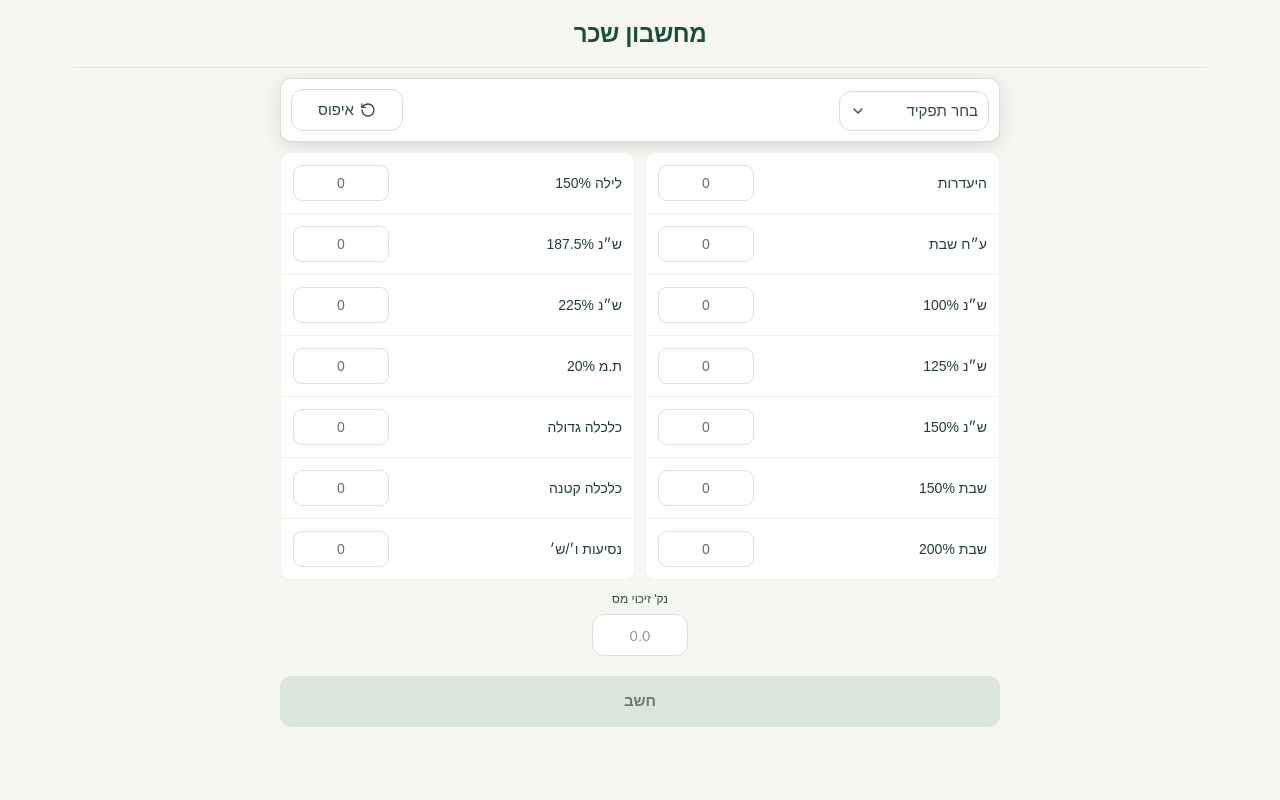
Test: continues to calculate without storage
This screenshot has width=1280, height=800.
Click the button labelled "בחר תפקיד".
click(914, 111)  # box [839, 91, 989, 131]
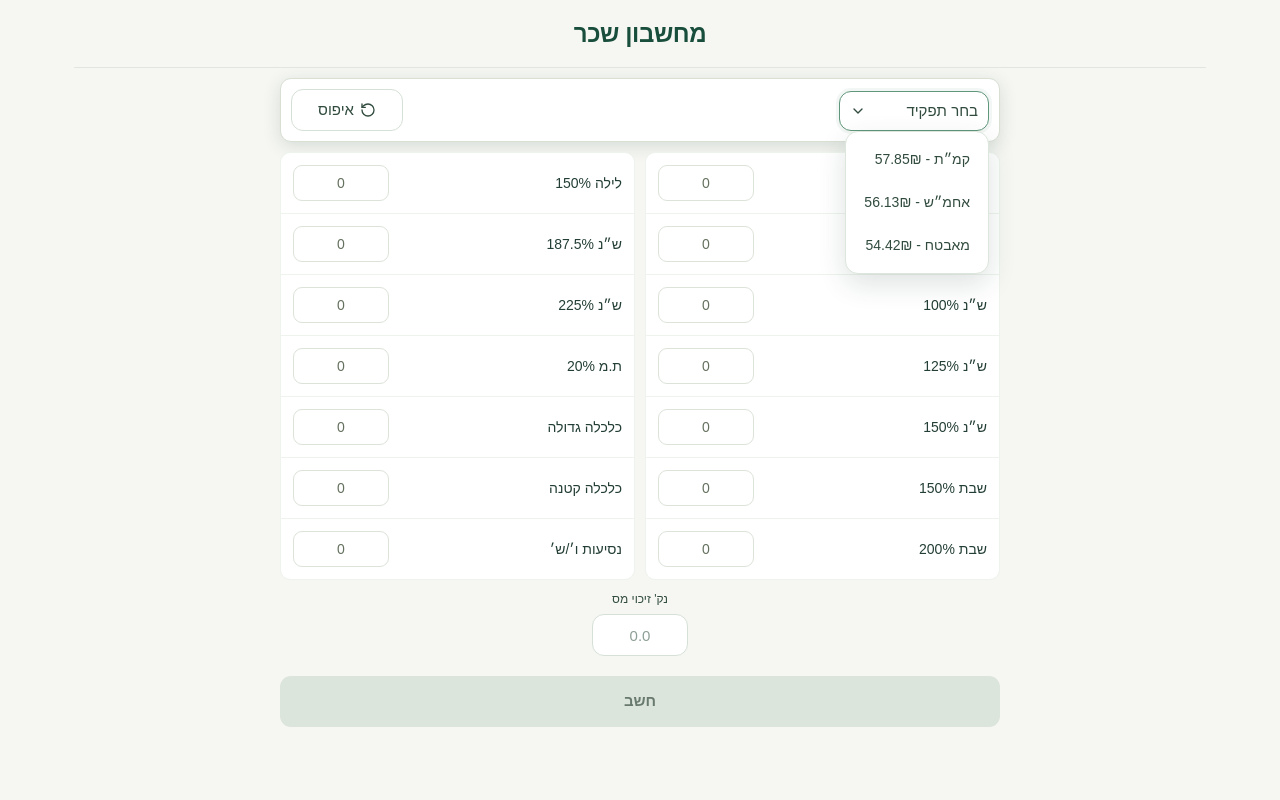
Click the button "קמ״ת - 57.85₪".
click(917, 160)  # box [852, 138, 982, 181]
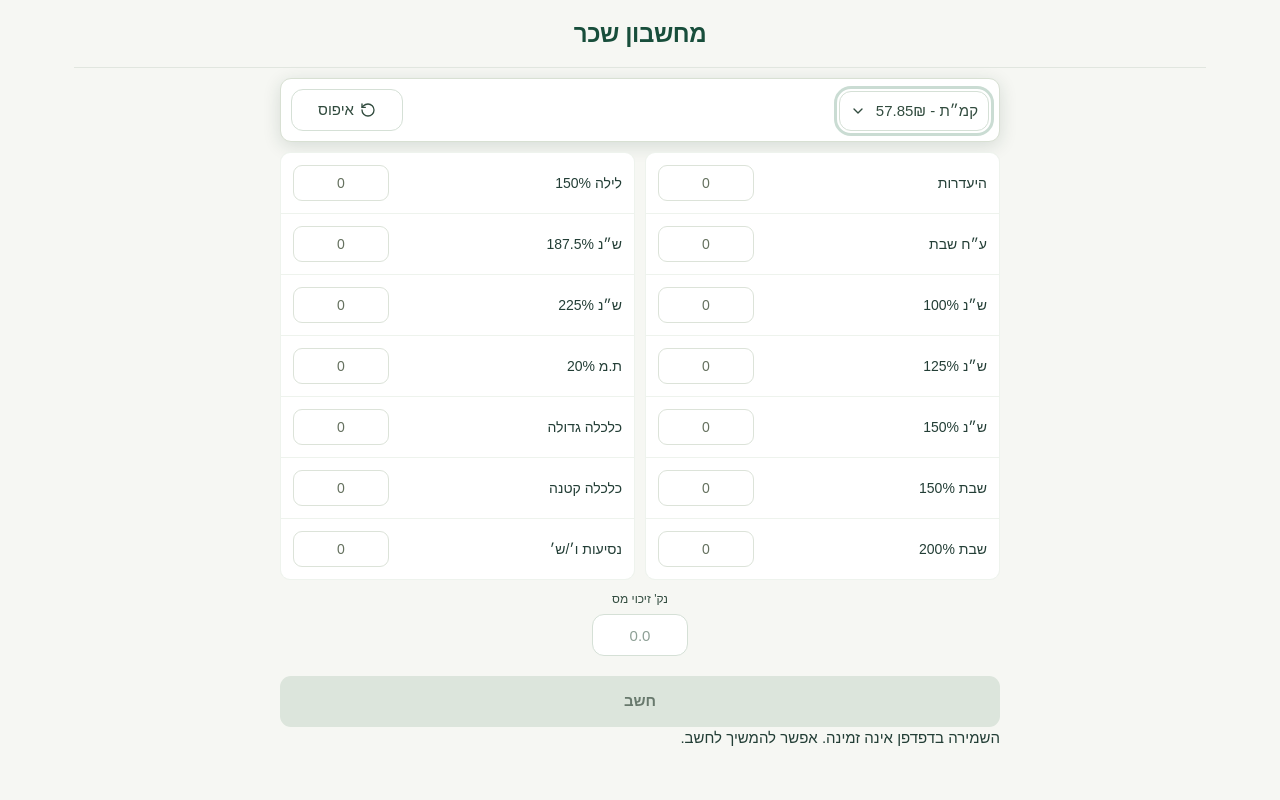
Type "150" into the field named "שעות רגילות".
click(706, 305); type("150")  # box [658, 287, 754, 323]
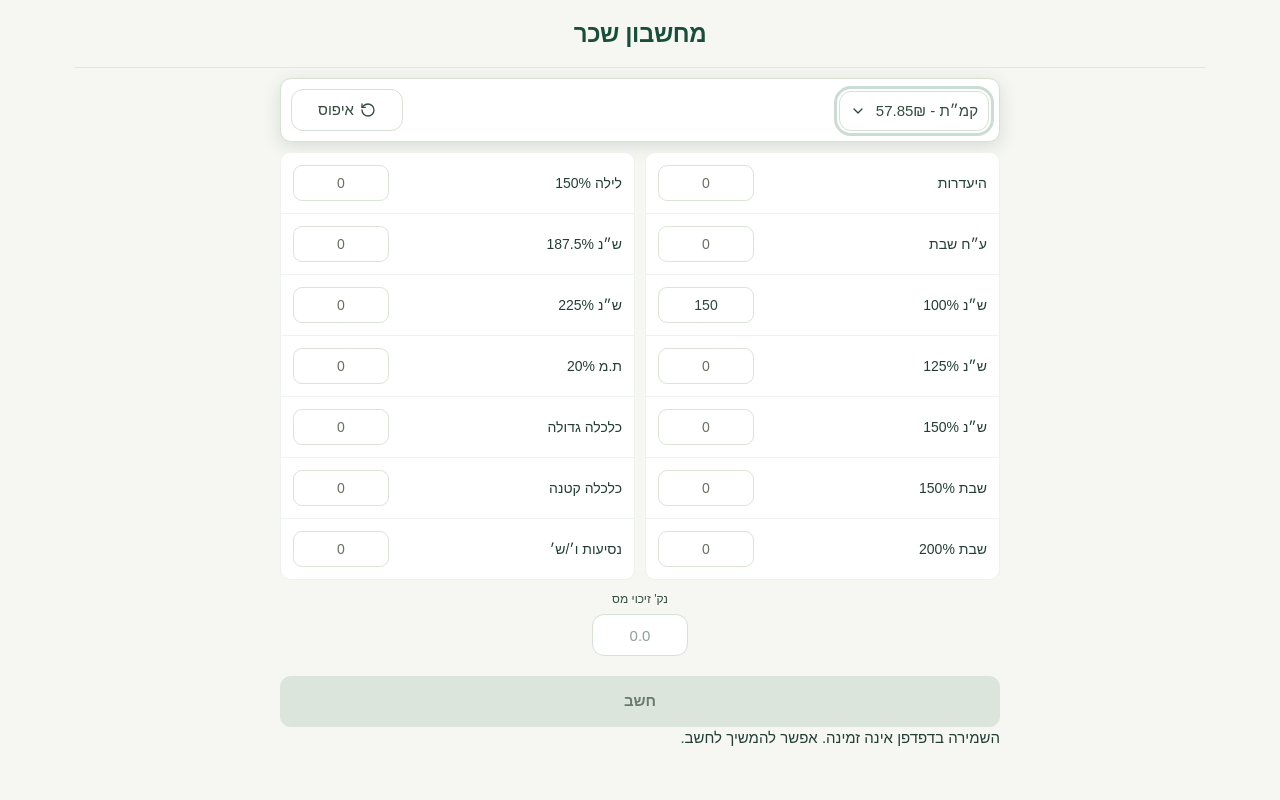
Type "2.25" into the field labelled "נק' זיכוי מס".
click(640, 635); type("2.25")  # box [592, 614, 688, 656]
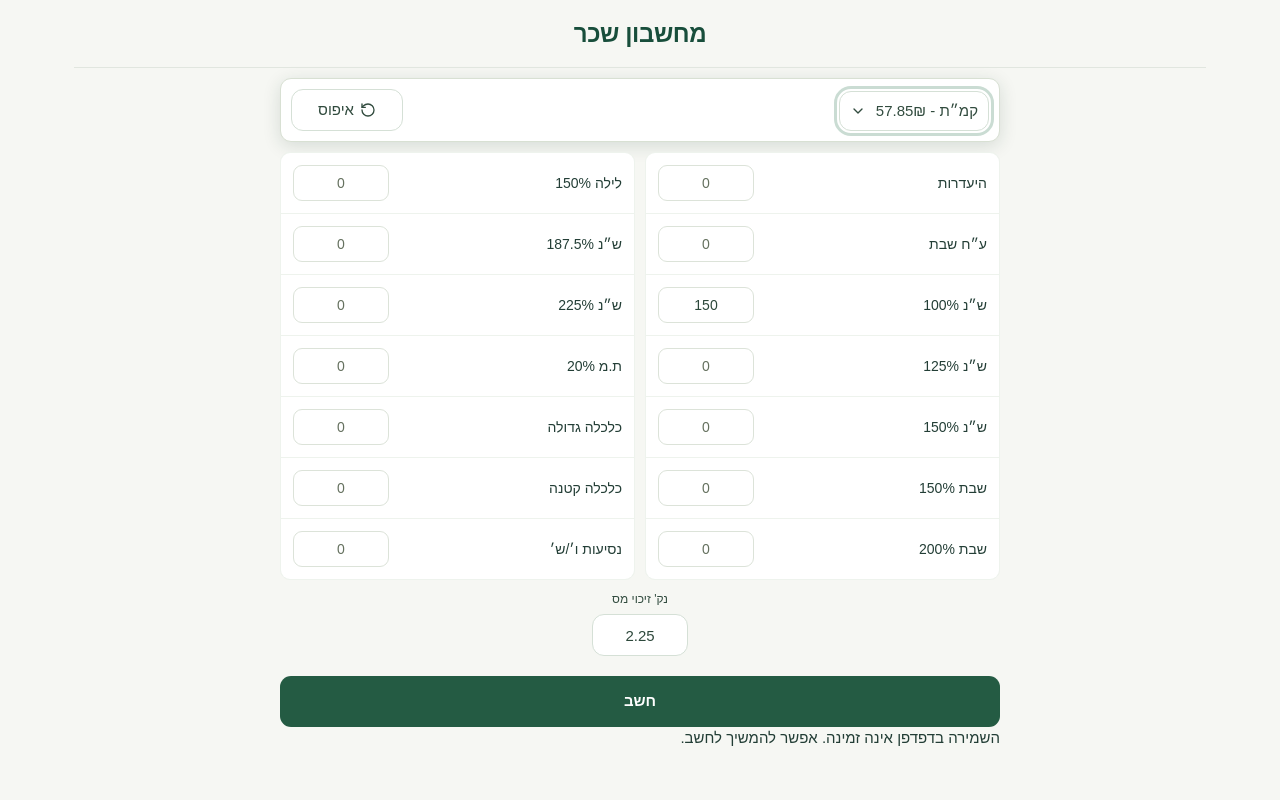
Click the button "חשב".
click(640, 701)  # box [280, 676, 1000, 726]
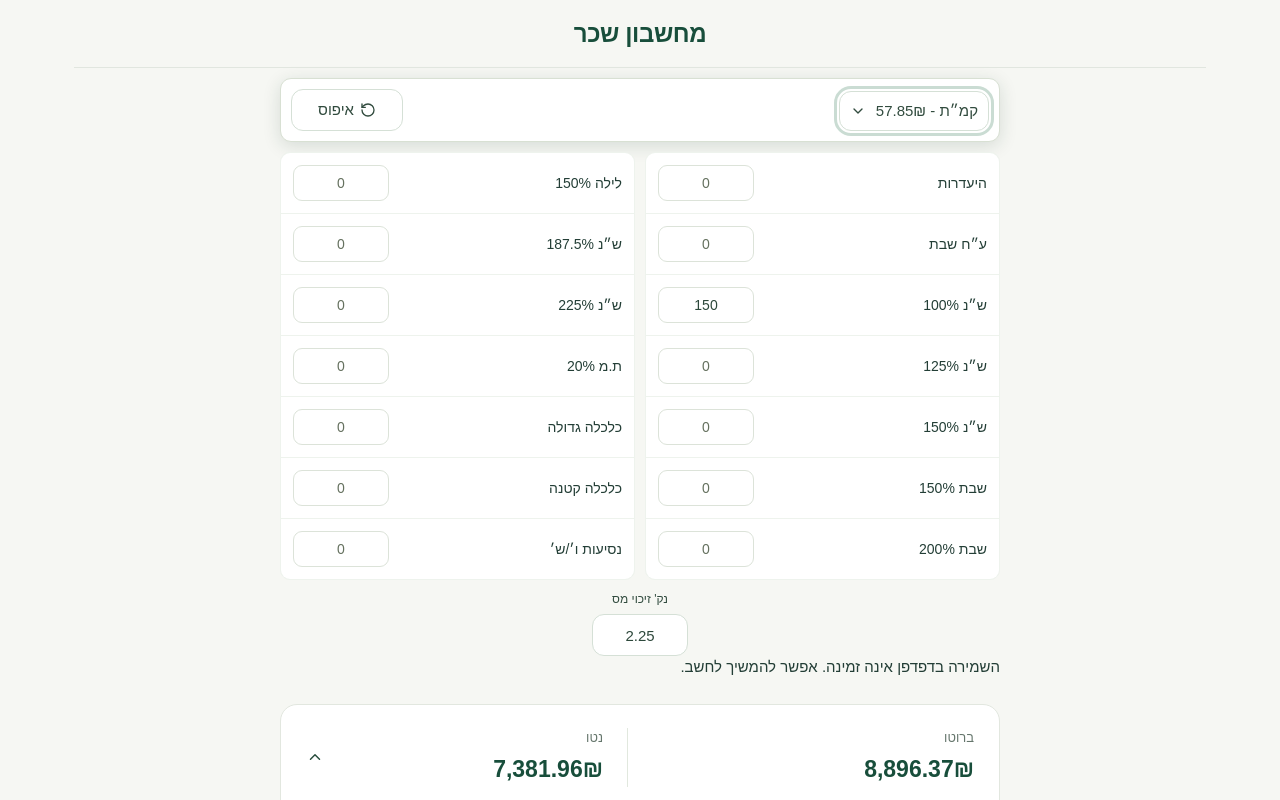
Check: the text "השמירה בדפדפן אינה זמינה. אפשר להמשיך לחשב." is shown, box [680, 658, 1000, 675]
Check: the text with test id "net" shows "7,381.96", box [487, 756, 603, 782]
